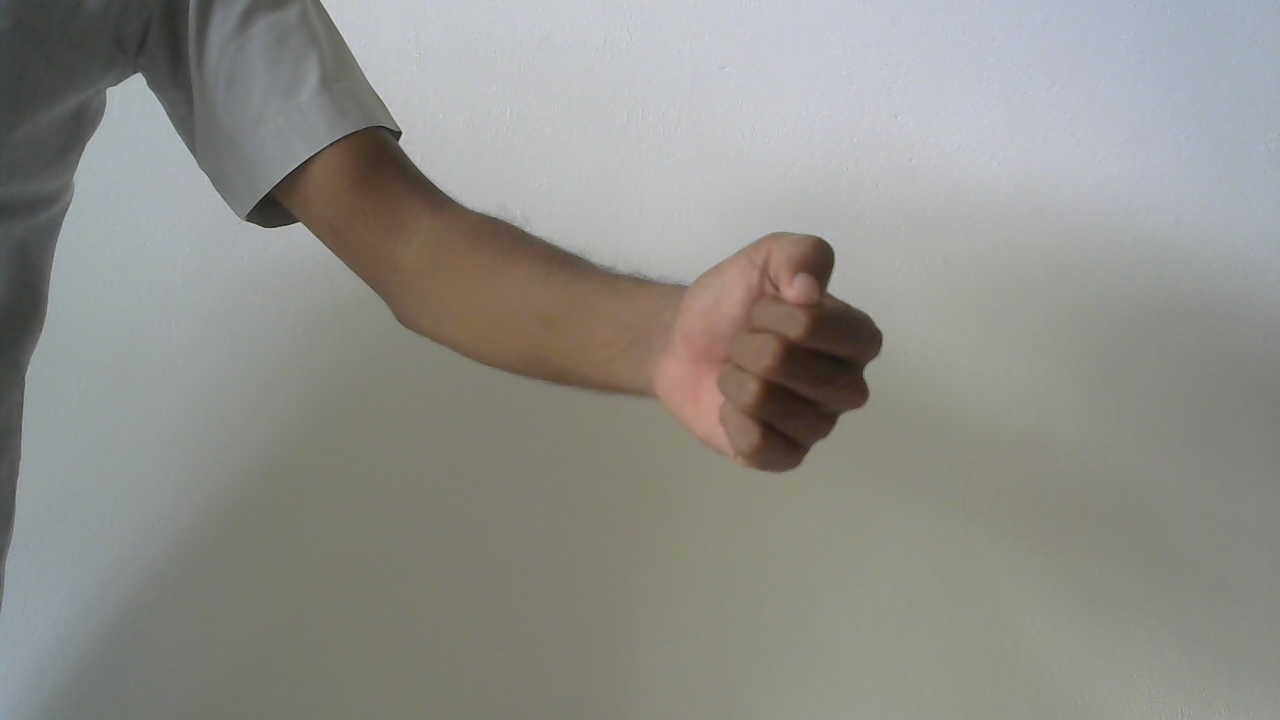yes: (653, 208, 900, 492)
